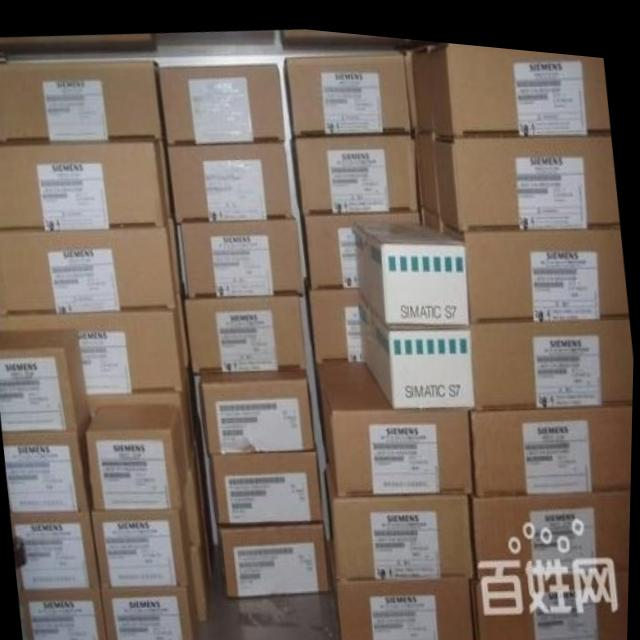box: (316, 351, 474, 488), (443, 212, 630, 310), (436, 122, 620, 221), (0, 218, 177, 315), (327, 458, 477, 572), (428, 34, 611, 127), (329, 530, 477, 640), (0, 136, 169, 229), (0, 304, 187, 388), (471, 392, 634, 487), (472, 303, 635, 396), (472, 475, 633, 566), (0, 56, 165, 140), (472, 558, 631, 640), (361, 290, 476, 400), (355, 213, 471, 318), (87, 401, 190, 508), (161, 56, 286, 141), (167, 137, 294, 219), (288, 126, 417, 206), (283, 45, 410, 126), (180, 212, 306, 293), (200, 363, 318, 448), (185, 289, 307, 370), (300, 203, 422, 282), (0, 325, 89, 432), (4, 407, 94, 512), (94, 495, 195, 585), (209, 443, 324, 520), (218, 515, 333, 590), (89, 384, 194, 464), (13, 510, 103, 589), (104, 574, 203, 640), (307, 272, 364, 355), (193, 517, 213, 617), (416, 123, 439, 205), (410, 39, 432, 123), (188, 442, 204, 541), (403, 43, 418, 121), (160, 138, 175, 213), (177, 291, 190, 361), (169, 216, 181, 290), (425, 201, 441, 219)
